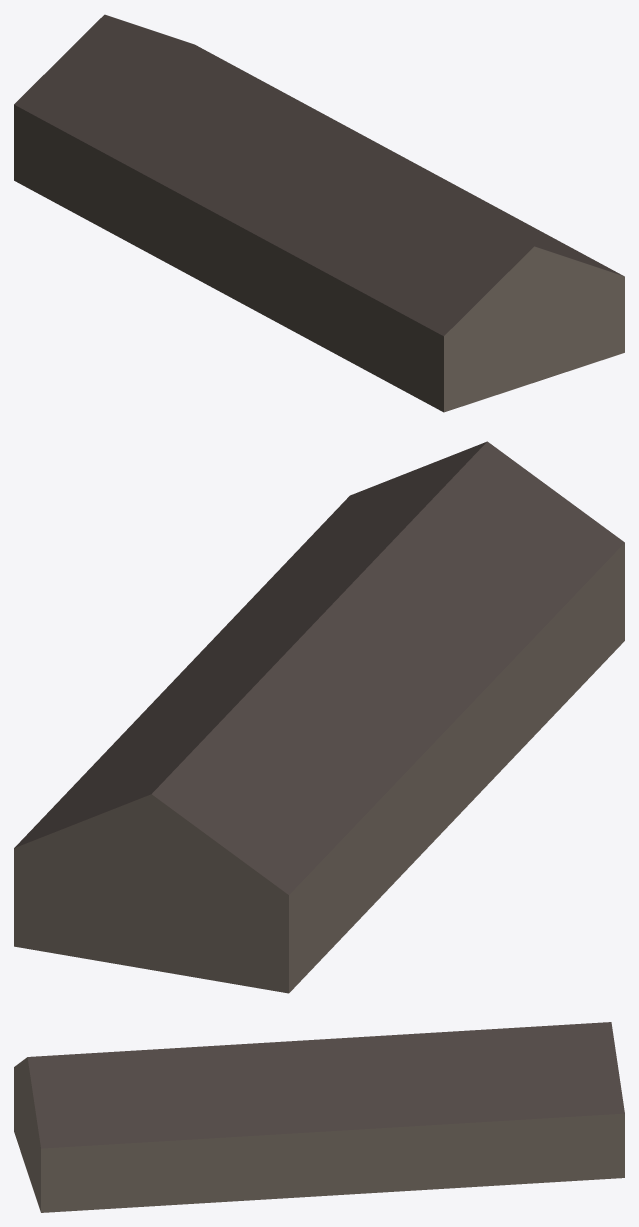
The picture shows the model from 3 angles, top to bottom: view 1: azimuth 30°, elevation 25°; view 2: azimuth 150°, elevation 25°; view 3: azimuth 270°, elevation 25°; orthographic projection. The views are drawn at different scales.
Visible parts, largest first — view 1: HP-w408450670; view 2: HP-w408450670; view 3: HP-w408450670.
Part boxes in pixels (box(x1,y1,x2,y2)): HP-w408450670: box(14, 14, 624, 412); HP-w408450670: box(14, 441, 624, 993); HP-w408450670: box(14, 1022, 624, 1212).
Size of the model in its own units: 11.62 by 5.37 by 25.79.
